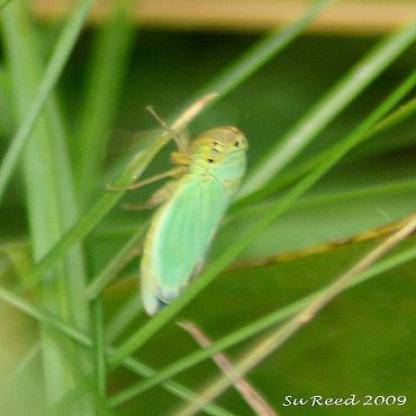Green-Leafhopper: (116, 106, 255, 318)
